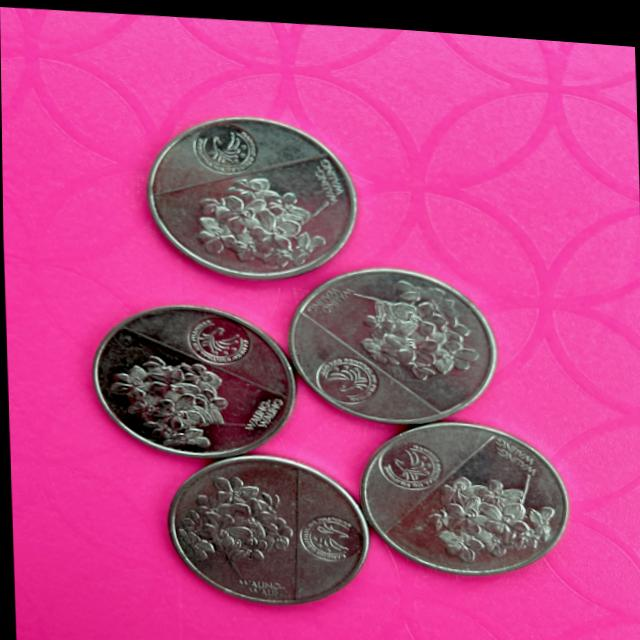1_New_Back: (96, 330, 271, 451), (177, 164, 325, 270), (345, 266, 474, 382), (412, 455, 549, 555), (168, 466, 294, 567)
